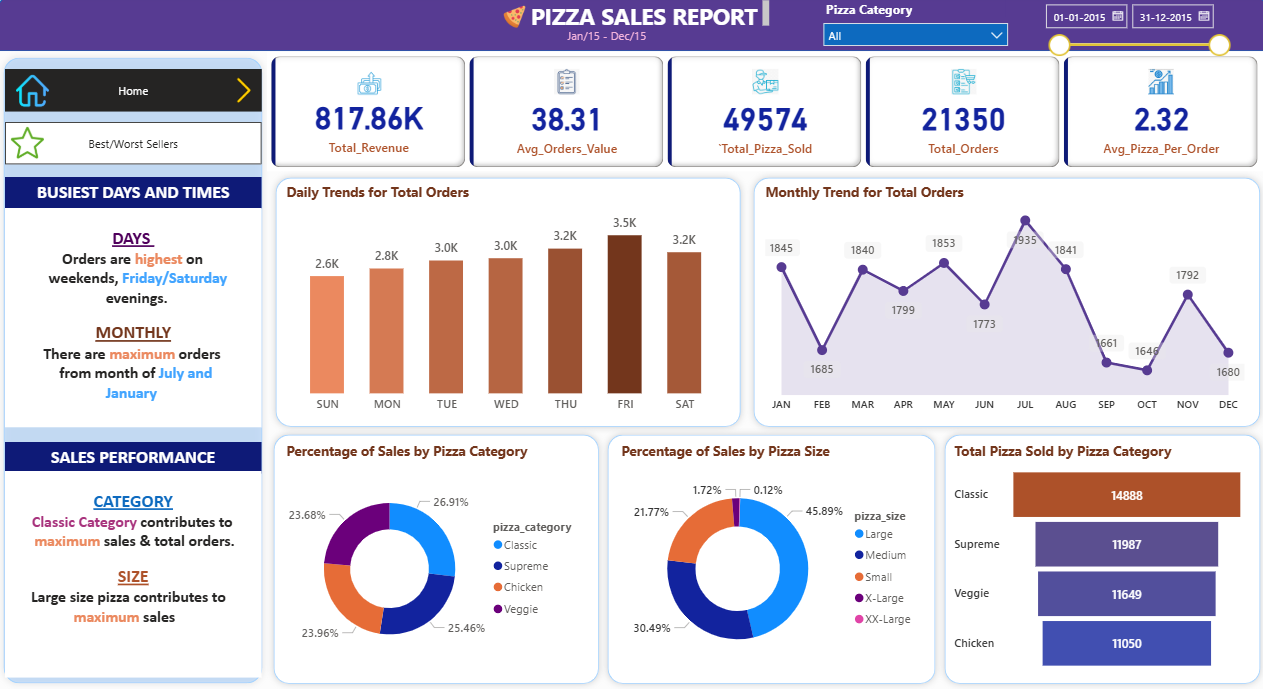

What the dashboard file says about the page in this screenshot:
{"tool":"powerbi","page":{"name":"Home","canvas":[1500,820],"ordinal":0},"visuals":[{"type":"shape","box":[0,65.3,321.3,754.7],"z":0},{"type":"cardVisual","fields":{"Data":["pizza_sales.Total_Revenue","pizza_sales.Avg_Orders_Value","pizza_sales.`Total_Pizza_Sold","pizza_sales.Total_Orders","pizza_sales.Avg_Pizza_Per_Order"]},"box":[318.9,65.6,1178.9,141.1],"z":1000},{"type":"shape","box":[0,0,1500.3,65.3],"z":2000},{"type":"textbox","box":[620.1,0,296.8,42.8],"z":3000},{"type":"textbox","box":[669.1,32.6,126.5,32.6],"z":4000},{"type":"image","box":[591.5,6.1,38.8,36.7],"z":5000},{"type":"shape","box":[321.3,207,565,310],"z":6000},{"type":"columnChart","title":"Daily Trends for Total Orders","fields":{"Category":["pizza_sales.Order_Day"],"Y":["pizza_sales.Total_Orders"]},"box":[336.6,221.3,530.3,279.5],"z":7000},{"type":"shape","box":[886.3,207,614,310],"z":8000},{"type":"areaChart","title":"Monthly Trend for Total Orders","fields":{"Category":["pizza_sales.Order Month"],"Y":["pizza_sales.Total_Orders"]},"box":[902.6,221.3,576.2,279.5],"z":9000},{"type":"shape","box":[319.2,510,399.8,310],"z":10000},{"type":"shape","box":[712.9,510,403,310],"z":11000},{"type":"shape","box":[1111.7,510,388.6,310],"z":12000},{"type":"donutChart","title":"Percentage of Sales by Pizza Category","fields":{"Category":["pizza_sales.pizza_category"],"Y":["pizza_sales.Total_Revenue"]},"box":[336.6,526.3,363.1,278.4],"z":13000},{"type":"donutChart","title":"Percentage of Sales by Pizza Size","fields":{"Category":["pizza_sales.pizza_size"],"Y":["pizza_sales.Total_Revenue"]},"box":[732.3,526.3,365.1,278.4],"z":14000},{"type":"textbox","box":[9.2,214.2,302.9,36.7],"z":15000},{"type":"funnel","title":"Total Pizza Sold by Pizza Category","fields":{"Category":["pizza_sales.pizza_category"],"Y":["pizza_sales.`Total_Pizza_Sold"]},"box":[1126,526.3,352.9,278.4],"z":16000},{"type":"textbox","box":[9.2,250.9,302.9,259.1],"z":17000},{"type":"textbox","box":[9.2,526.3,302.9,36.7],"z":18000},{"type":"textbox","box":[9.2,560.9,302.9,243.8],"z":19000},{"type":"slicer","fields":{"Values":["pizza_sales.pizza_category"]},"box":[965.8,0,237.6,65.3],"z":20000},{"type":"slicer","fields":{"Values":["pizza_sales.order_date"]},"box":[1226,0,238.6,74.4],"z":21000},{"type":"pageNavigator","box":[8.9,86.7,303.3,50],"z":22000},{"type":"pageNavigator","box":[8.9,148.9,303.3,50],"z":23000},{"type":"image","box":[272.2,87.8,40,48.9],"z":24000},{"type":"image","box":[8.9,148.9,53.3,48.9],"z":25000},{"type":"image","box":[8.9,87.8,65.6,48.9],"z":26000}]}

Visuals, with their boxes in screenshot pixels (x1, y1, x2, y2), scaled from the page's 1500x820 canvas onto the 1263x689 screenshot:
shape: left=0, top=55, right=271, bottom=688
cardVisual - pizza_sales.Total_Revenue x pizza_sales.Avg_Orders_Value: left=269, top=55, right=1261, bottom=174
shape: left=0, top=0, right=1262, bottom=55
textbox: left=522, top=0, right=772, bottom=36
textbox: left=563, top=27, right=670, bottom=55
image: left=498, top=5, right=531, bottom=36
shape: left=271, top=174, right=746, bottom=434
"Daily Trends for Total Orders" columnChart: left=283, top=186, right=730, bottom=421
shape: left=746, top=174, right=1262, bottom=434
"Monthly Trend for Total Orders" areaChart: left=760, top=186, right=1245, bottom=421
shape: left=269, top=429, right=605, bottom=688
shape: left=600, top=429, right=940, bottom=688
shape: left=936, top=429, right=1262, bottom=688
"Percentage of Sales by Pizza Category" donutChart: left=283, top=442, right=589, bottom=676
"Percentage of Sales by Pizza Size" donutChart: left=617, top=442, right=924, bottom=676
textbox: left=8, top=180, right=263, bottom=211
"Total Pizza Sold by Pizza Category" funnel: left=948, top=442, right=1245, bottom=676
textbox: left=8, top=211, right=263, bottom=429
textbox: left=8, top=442, right=263, bottom=473
textbox: left=8, top=471, right=263, bottom=676
slicer - pizza_sales.pizza_category: left=813, top=0, right=1013, bottom=55
slicer - pizza_sales.order_date: left=1032, top=0, right=1233, bottom=63
pageNavigator: left=7, top=73, right=263, bottom=115
pageNavigator: left=7, top=125, right=263, bottom=167
image: left=229, top=74, right=263, bottom=115
image: left=7, top=125, right=52, bottom=166
image: left=7, top=74, right=63, bottom=115
